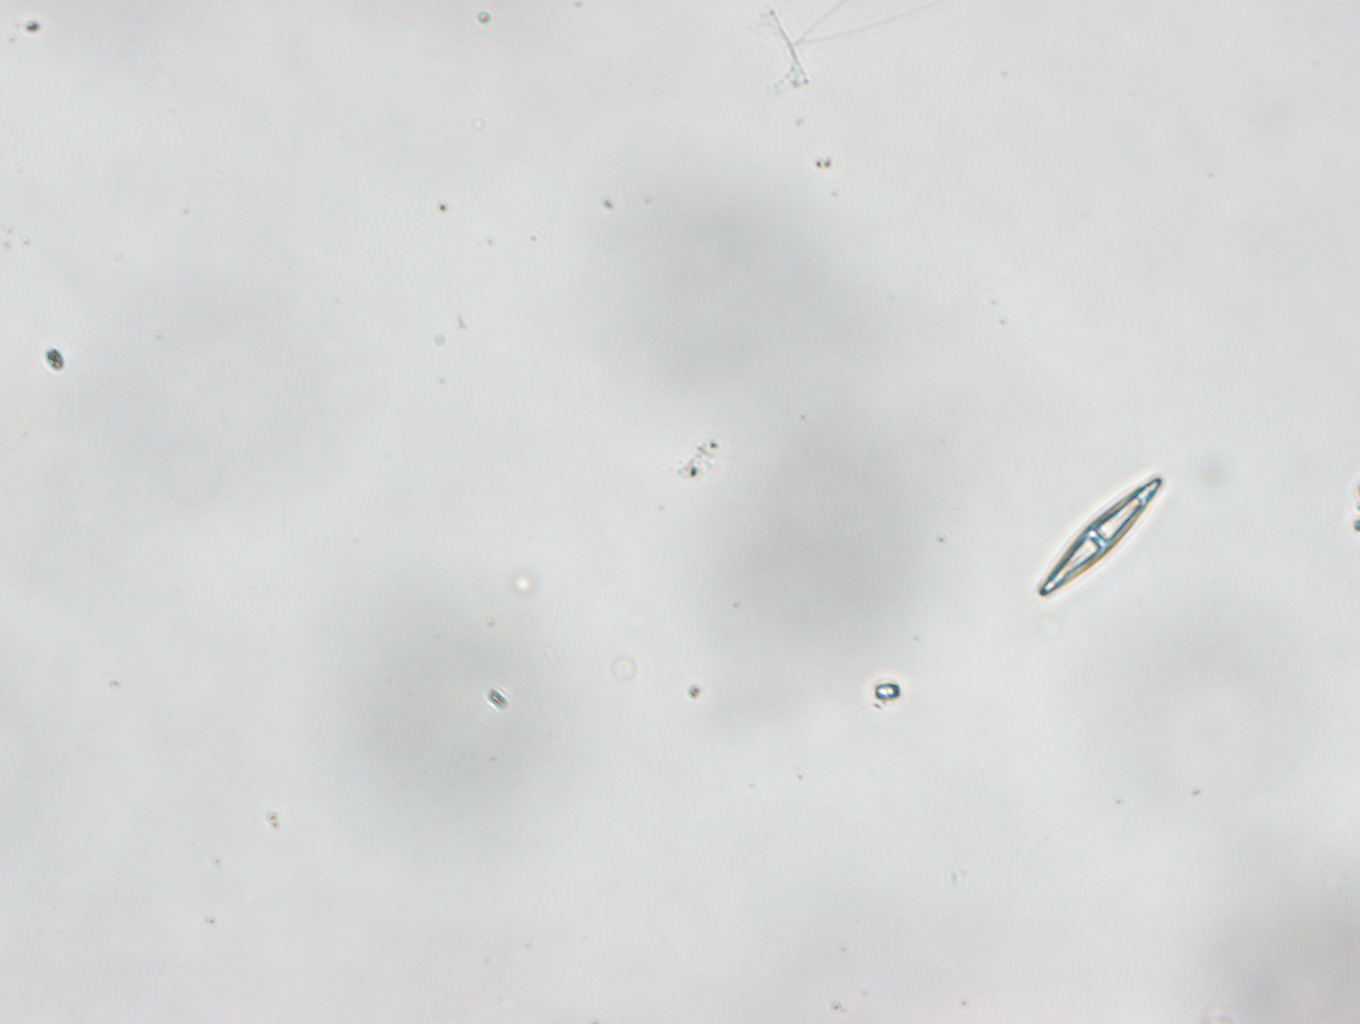navicula: (1035, 475, 1166, 600)
